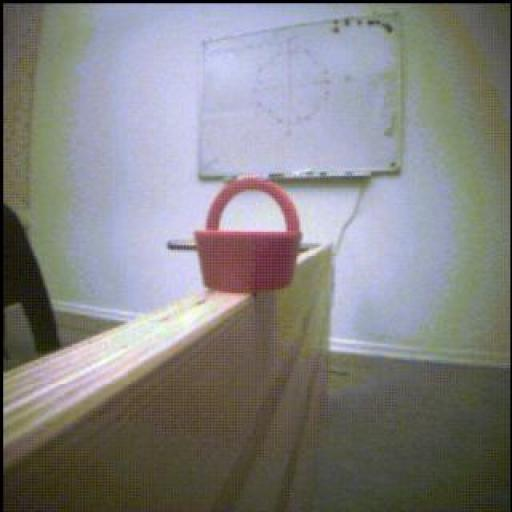Bucket: (196, 179, 302, 294)
